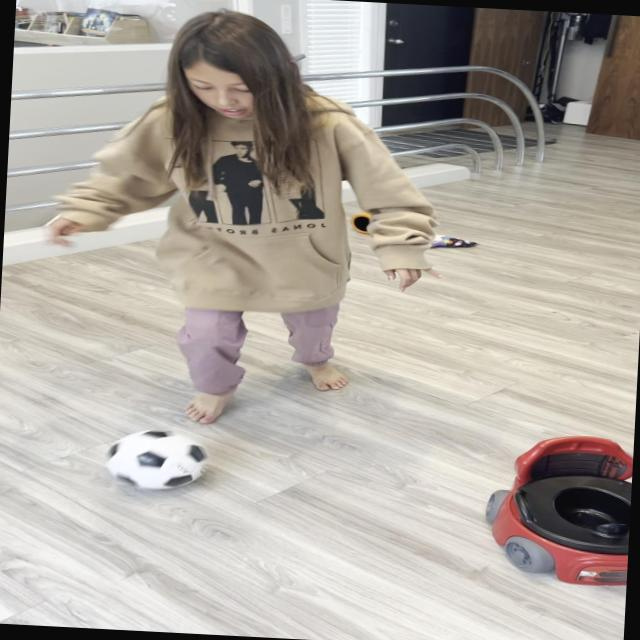Soccer Ball: (103, 427, 210, 494)
